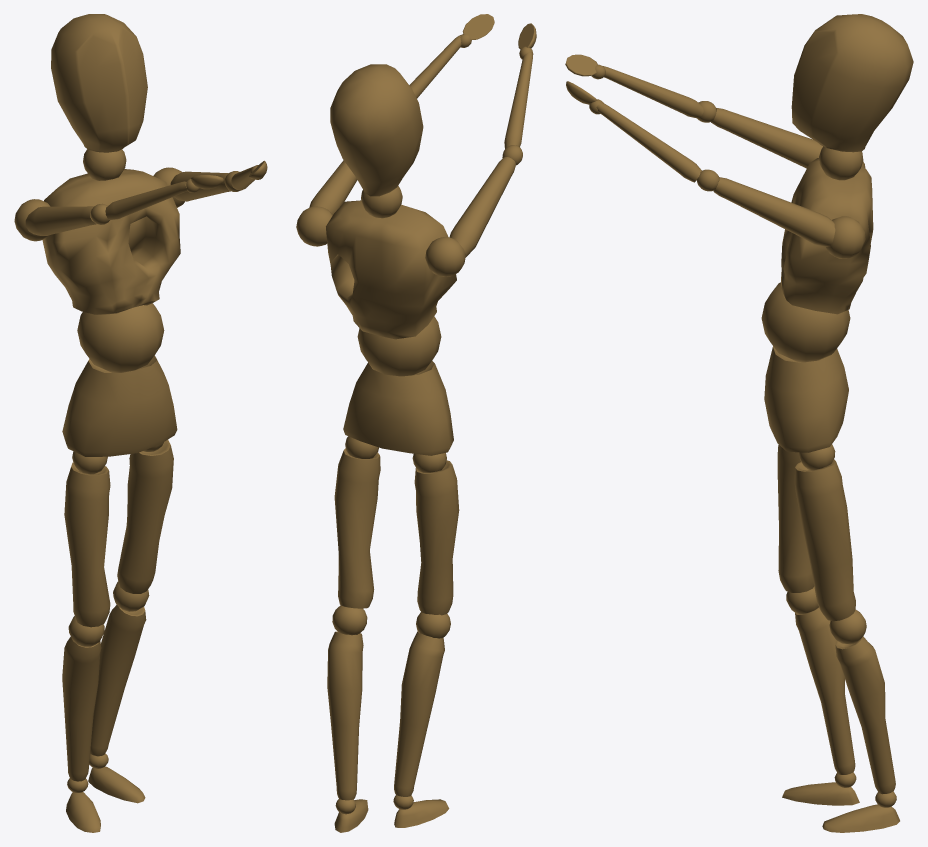
Rendered from maniqui_pose9.fbx.
The picture shows the model from 3 angles, left to right: view 1: azimuth 30°, elevation 25°; view 2: azimuth 150°, elevation 25°; view 3: azimuth 270°, elevation 25°; orthographic projection. The views are drawn at different scales.
Visible parts, largest first — view 1: dummy_obj.018; view 2: dummy_obj.018; view 3: dummy_obj.018.
Part boxes in pixels (left/top/right/bottom): dummy_obj.018: left=14, top=14, right=267, bottom=832; dummy_obj.018: left=296, top=14, right=536, bottom=832; dummy_obj.018: left=565, top=14, right=913, bottom=832.
Bounding box in the file's own units: 15.8 × 69.1 × 27.37.
